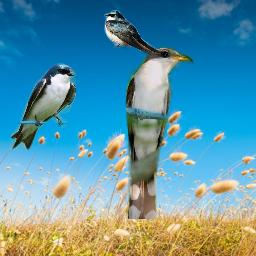Cuckoo: (124, 46, 194, 219)
Swallow: (9, 63, 76, 150), (104, 10, 161, 55)
